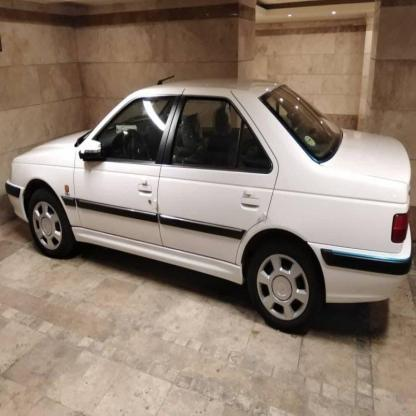Car: (0, 70, 416, 330)
